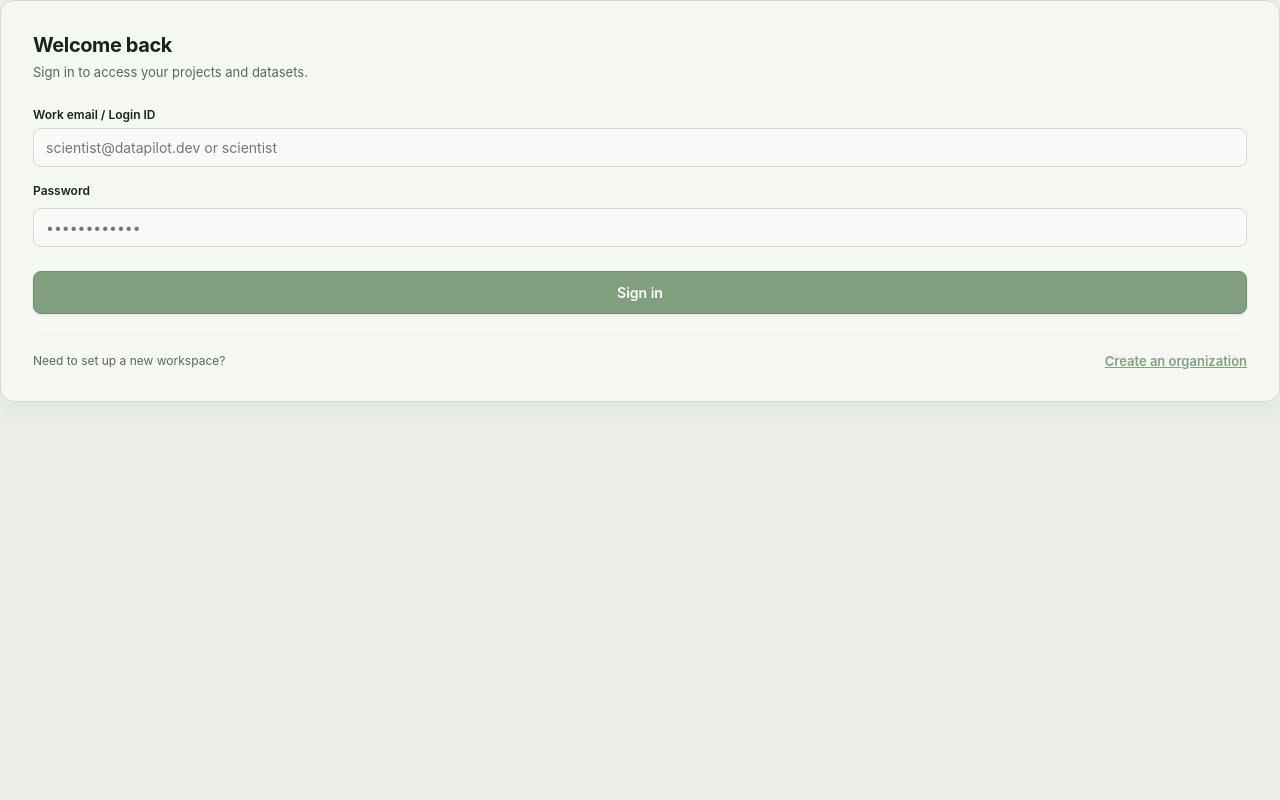
Test: AuthView component › renders sign in form by default and toggles to register
Check: the heading "Welcome back" is shown, box [33,33,172,57]
Check: the field labelled "Work email / Login ID" is shown, box [33,128,1247,166]
# Toggle to registration
Click the button "Create an organization".
click(1176, 360)  # box [1105,352,1247,368]
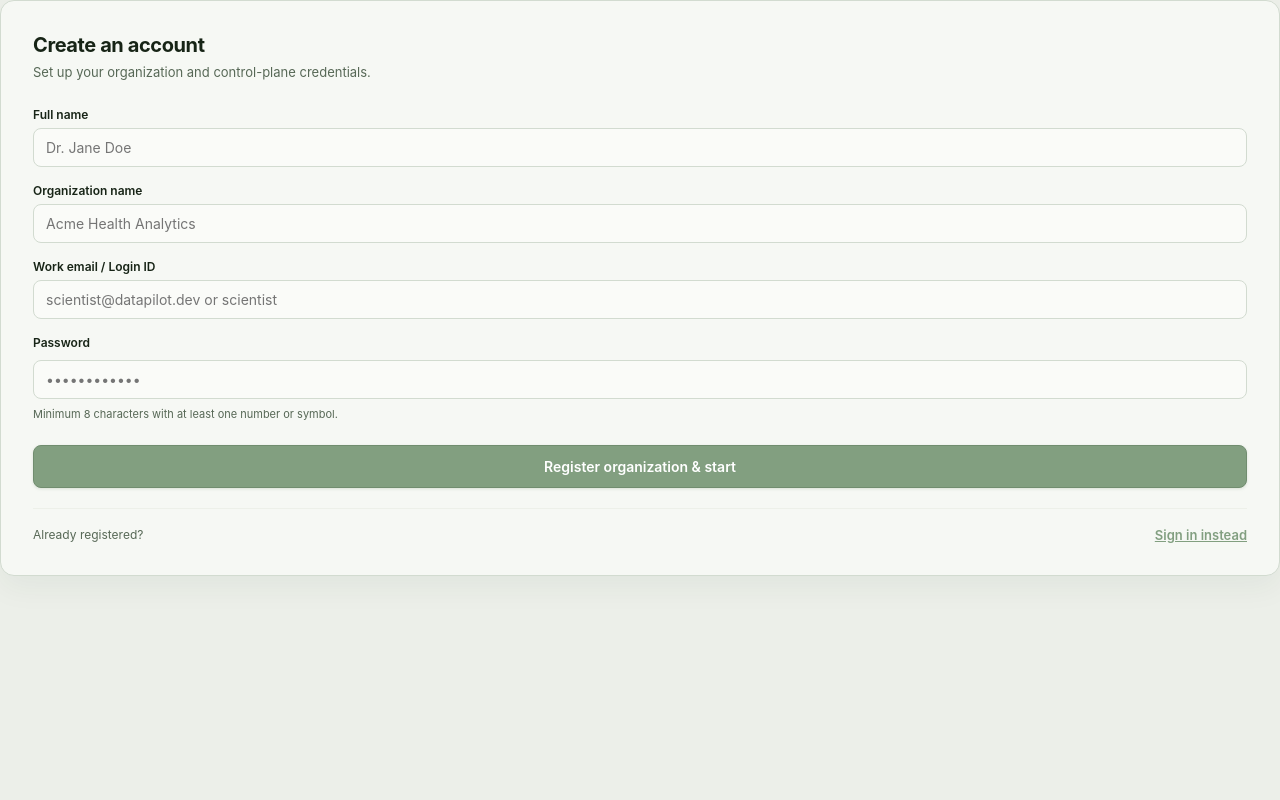
Check: the heading "Create an account" is shown, box [33,33,205,57]
Check: the field labelled "Full name" is shown, box [33,128,1247,166]
Check: the field labelled "Organization name" is shown, box [33,204,1247,242]
